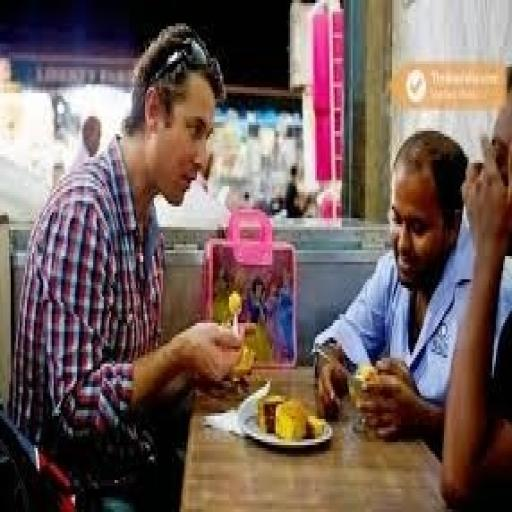eating: (9, 20, 252, 504)
